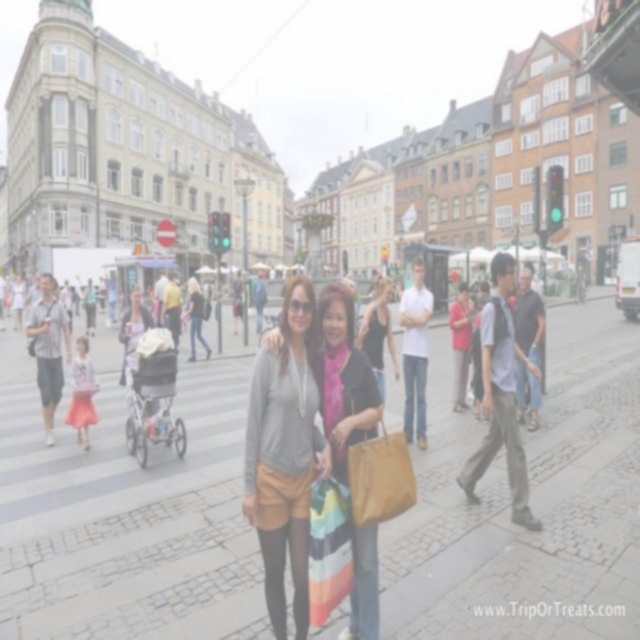pessoa: (260, 279, 385, 639), (239, 270, 353, 640), (455, 247, 545, 532), (25, 270, 74, 447), (396, 256, 434, 452), (356, 272, 402, 410), (118, 282, 158, 428), (512, 266, 546, 432), (62, 334, 101, 452), (449, 282, 474, 414), (522, 258, 542, 420), (180, 274, 212, 362), (342, 277, 369, 349), (160, 268, 182, 348), (250, 269, 268, 335), (426, 254, 448, 306), (81, 276, 97, 338), (154, 268, 170, 329), (276, 270, 292, 330), (10, 274, 27, 330), (346, 272, 362, 330), (58, 278, 73, 336), (232, 268, 244, 335), (473, 292, 490, 331), (388, 271, 405, 304), (26, 272, 42, 307), (6, 272, 18, 318), (174, 272, 192, 302), (466, 292, 479, 332), (506, 280, 520, 314), (573, 266, 586, 300), (0, 270, 7, 332), (109, 276, 118, 324), (149, 287, 159, 324), (179, 296, 189, 332), (98, 275, 107, 314), (74, 274, 82, 316), (4, 276, 12, 318), (204, 276, 214, 305), (350, 270, 378, 280), (247, 267, 270, 279), (478, 280, 491, 298), (51, 277, 60, 301), (104, 273, 110, 307), (366, 280, 376, 298), (54, 213, 62, 230), (179, 279, 186, 298), (448, 267, 452, 297), (268, 265, 276, 280), (286, 268, 298, 276), (281, 266, 287, 280), (487, 278, 495, 288), (21, 276, 27, 288), (276, 267, 282, 279), (2, 277, 7, 289), (196, 277, 200, 289), (222, 280, 228, 286)
